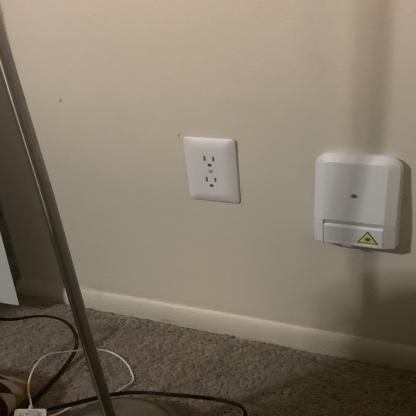OUTLET: (181, 136, 242, 206)
